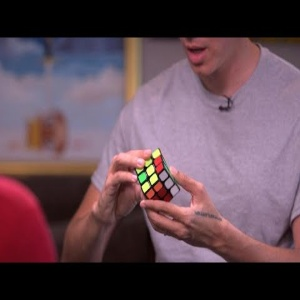cube: (134, 148, 181, 208)
